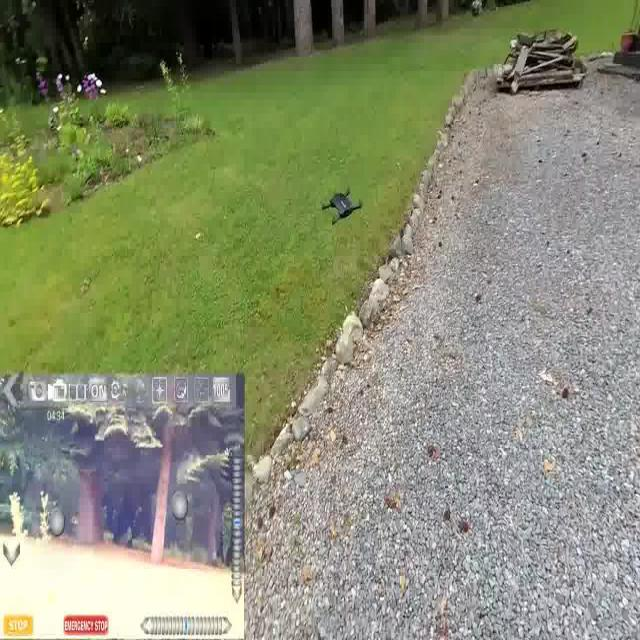drones: (324, 182, 364, 233)
